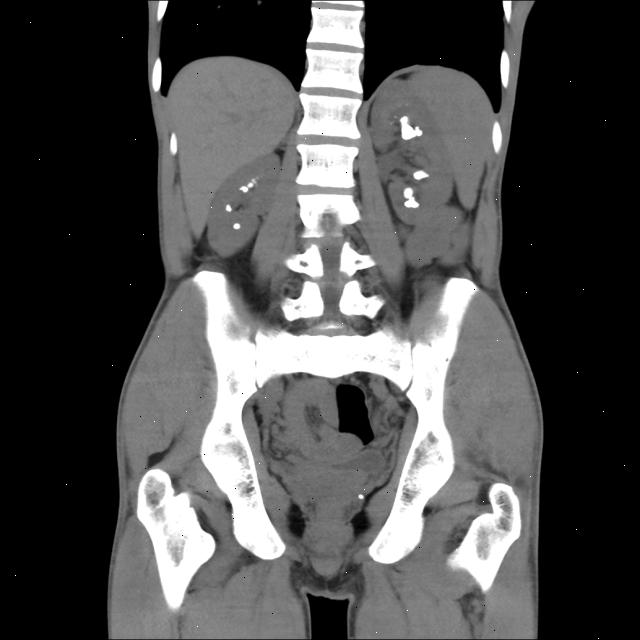kidneystone: (400, 117, 422, 140), (404, 188, 419, 209), (239, 177, 258, 193), (414, 170, 429, 179), (225, 205, 232, 212), (234, 223, 241, 229)
